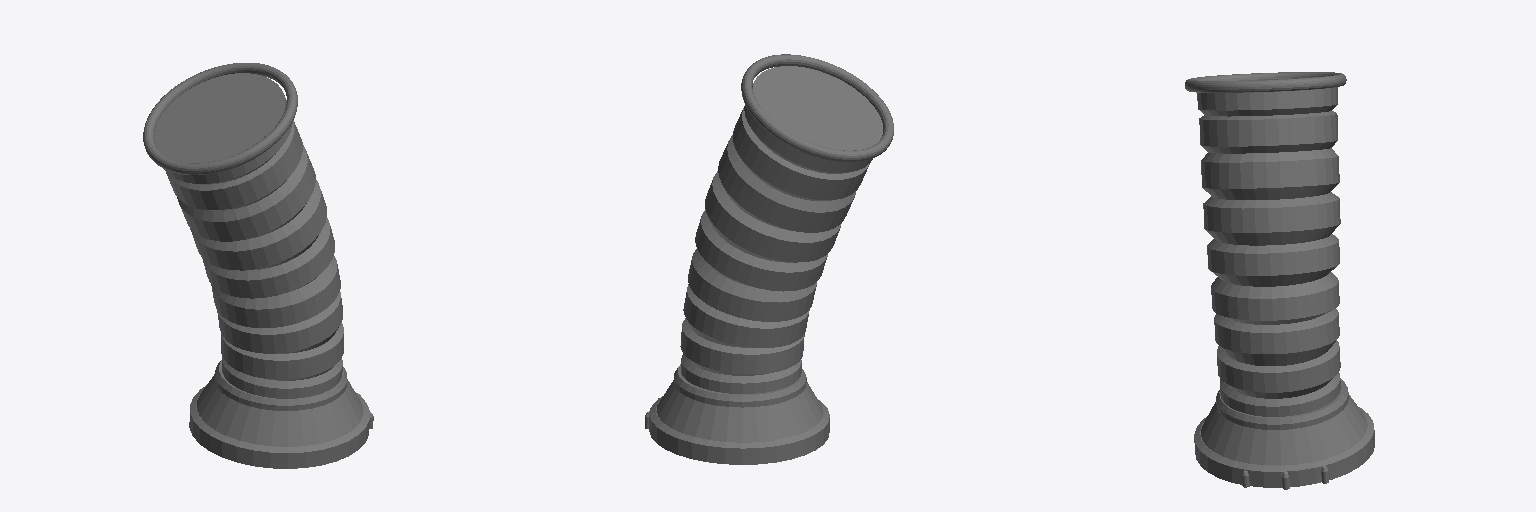
Rendered from godard_pierna_delantera.obj.
3 views of the same model, side by side, from view 1: azimuth 30°, elevation 25°; view 2: azimuth 150°, elevation 25°; view 3: azimuth 270°, elevation 25° (orthographic).
Parts seen in each view (by area): view 1: PiernaFront004, PiernaFront002, PiernaFront001, PiernaFront005, PiernaFront; view 2: PiernaFront004, PiernaFront002, PiernaFront001, PiernaFront005, PiernaFront; view 3: PiernaFront004, PiernaFront002, PiernaFront001, PiernaFront005, PiernaFront.
Boxes of the visible parts, box(x1,y1,x2,y2) form: PiernaFront004: box(154, 73, 343, 398); PiernaFront002: box(197, 374, 362, 446); PiernaFront001: box(189, 385, 369, 468); PiernaFront005: box(143, 63, 297, 174); PiernaFront: box(215, 360, 346, 410); PiernaFront004: box(680, 66, 882, 393); PiernaFront002: box(656, 380, 822, 442); PiernaFront001: box(649, 396, 829, 464); PiernaFront005: box(741, 54, 893, 161); PiernaFront: box(674, 364, 806, 407); PiernaFront004: box(1197, 87, 1340, 416); PiernaFront002: box(1201, 395, 1366, 464); PiernaFront001: box(1194, 407, 1374, 487); PiernaFront005: box(1185, 72, 1346, 92); PiernaFront: box(1216, 378, 1348, 429).
Size of the model in its own units: 1.42 by 2.32 by 1.09.